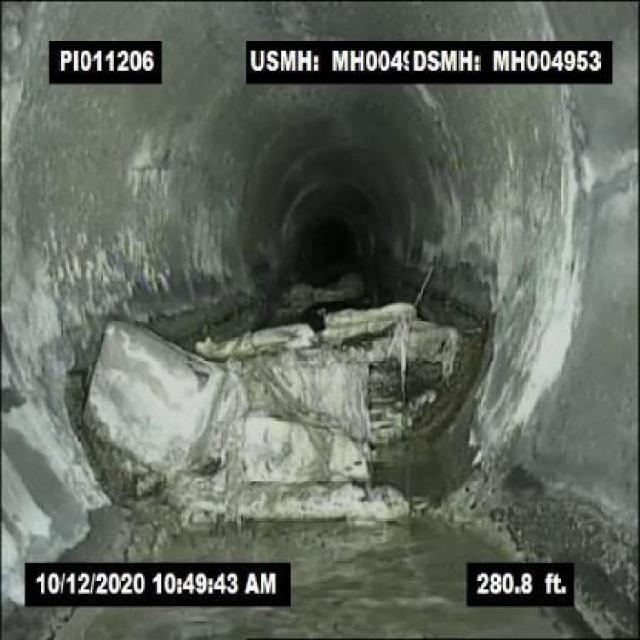Obstacle: (230, 297, 428, 529), (84, 317, 224, 477)
